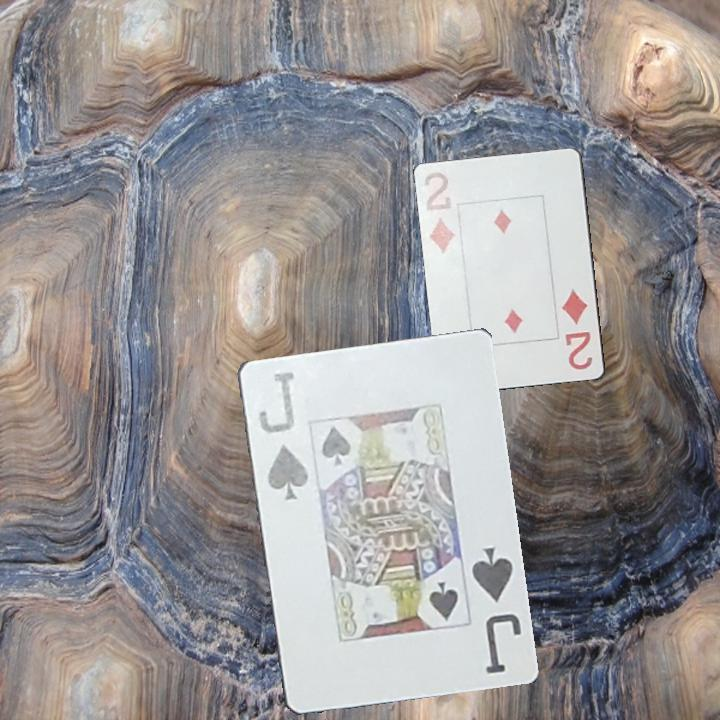2d: (418, 169, 460, 257), (559, 285, 596, 373)
Js: (253, 365, 311, 502), (467, 543, 524, 677)
